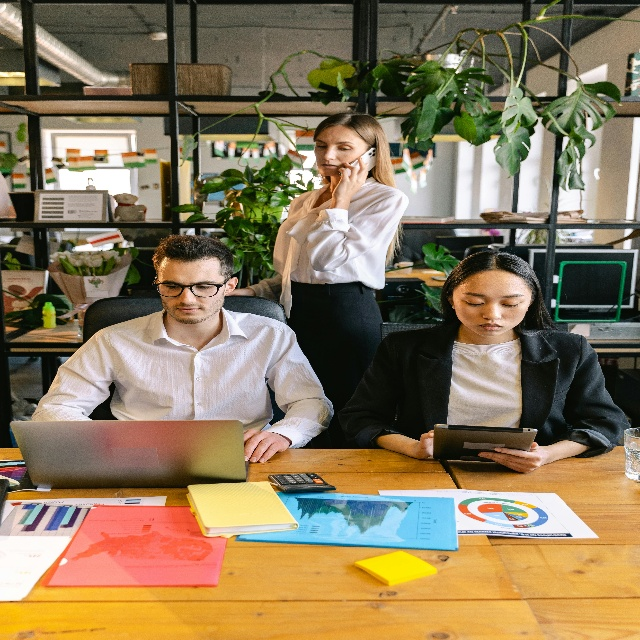Gafas: (152, 276, 231, 298)
Sin_guantes: (477, 441, 543, 473), (331, 157, 369, 202), (243, 429, 290, 463), (420, 429, 434, 458), (226, 287, 254, 297)
